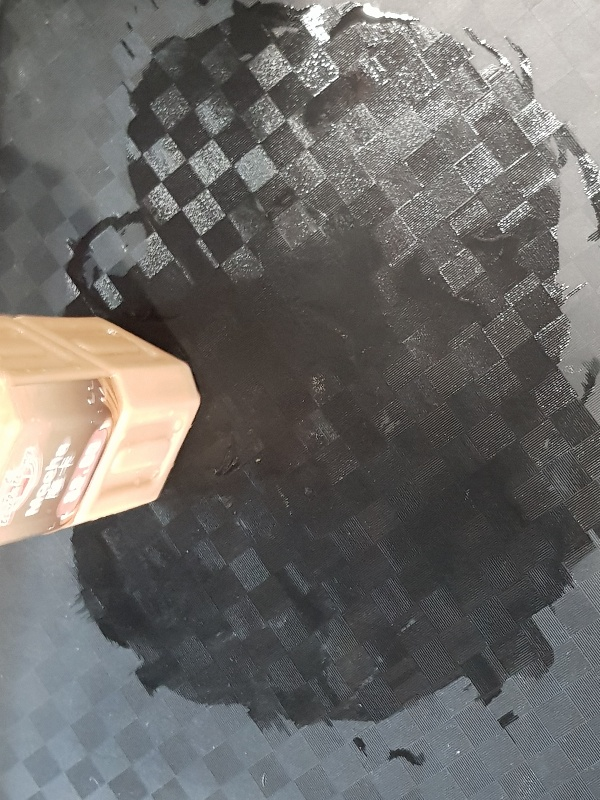Mocha: (1, 311, 202, 547)
